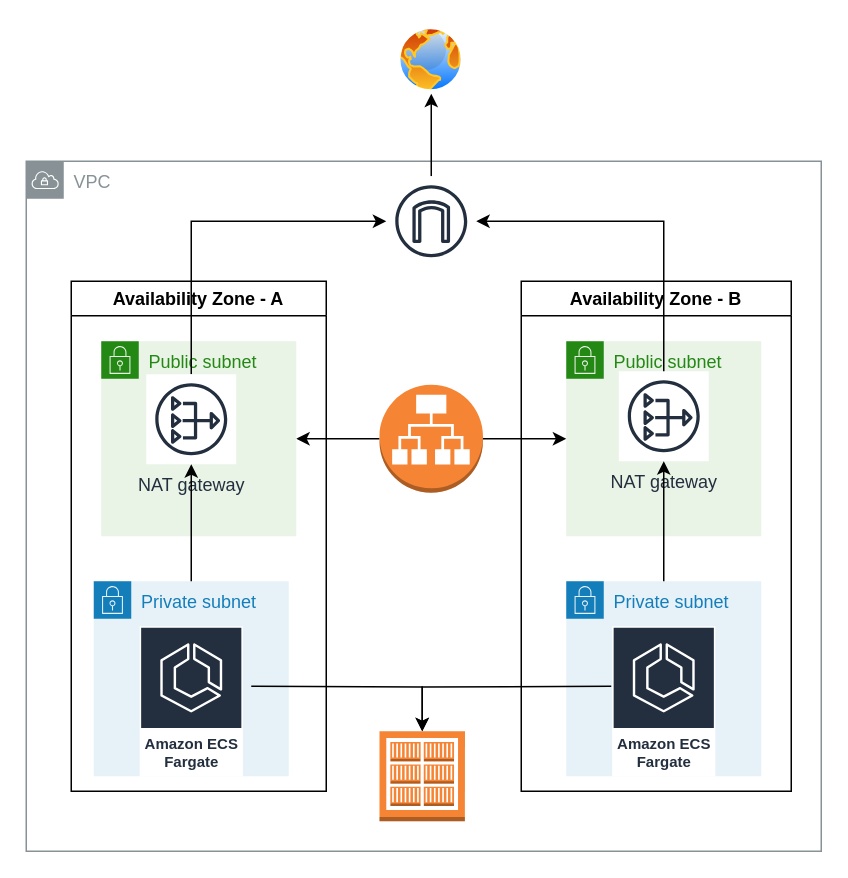
This 848x878 diagram has some shape labels left out. Here are the shapes that lost their labels. From the top down, the centre of each, then its label:
At pixel 430 220: "Internet gateway".
At pixel 430 438: "ALB".
At pixel 421 775: "ECR".
